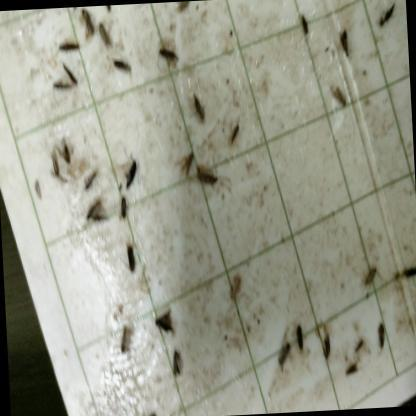prays_oleae: (46, 140, 70, 200), (148, 305, 182, 341), (111, 312, 136, 360), (82, 192, 110, 234), (267, 335, 294, 378), (52, 27, 84, 61), (326, 79, 350, 119), (168, 346, 186, 389), (115, 193, 138, 226), (195, 160, 218, 193), (341, 357, 368, 382), (77, 6, 94, 44), (360, 256, 379, 290), (58, 134, 74, 174), (192, 90, 210, 125), (157, 45, 181, 71), (96, 18, 113, 54), (177, 147, 196, 179), (397, 254, 416, 286), (320, 332, 337, 367), (121, 160, 142, 188), (373, 318, 389, 354), (50, 72, 72, 98), (330, 22, 349, 52), (226, 112, 241, 148), (124, 238, 138, 274), (111, 55, 134, 76), (63, 58, 78, 90), (294, 315, 306, 351), (352, 333, 366, 358)
